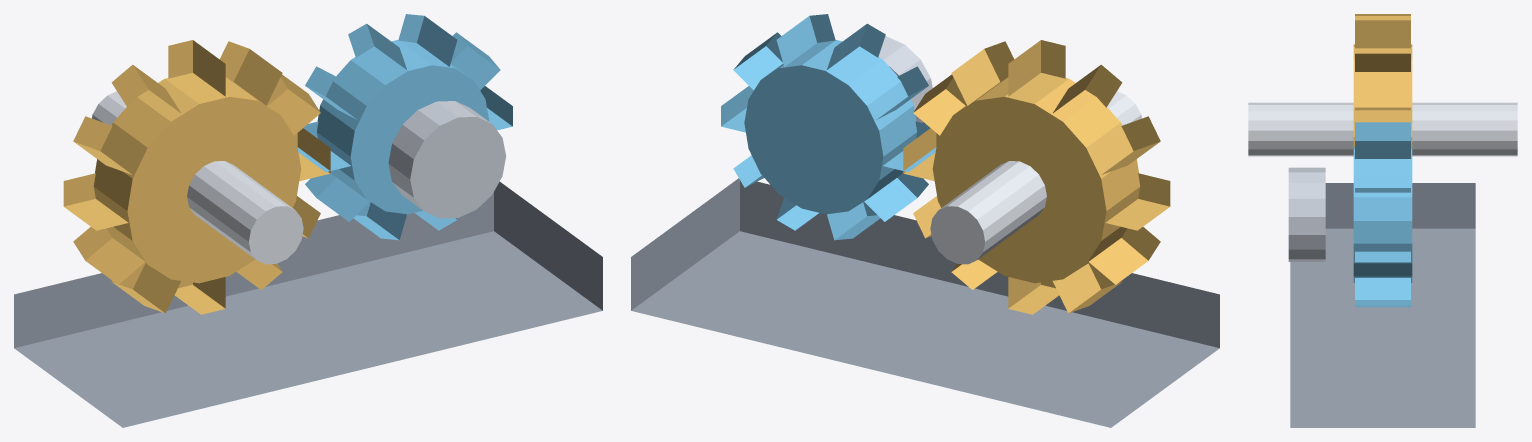
The model's file is mechanical_gearbox.glb.
3 views of the same model, side by side, from view 1: azimuth 30°, elevation 25°; view 2: azimuth 150°, elevation 25°; view 3: azimuth 270°, elevation 25° (orthographic). The views are drawn at different scales.
Parts seen in each view (by area): view 1: Housing_Base, Drive_Gear, Driven_Gear, Bearing_Ring, Input_Shaft; view 2: Housing_Base, Drive_Gear, Driven_Gear, Input_Shaft, Bearing_Ring; view 3: Housing_Base, Input_Shaft, Driven_Gear, Drive_Gear, Bearing_Ring.
Boxes of the visible parts, x1,y1,x2,y2 form: Housing_Base: (14,181,602,427); Drive_Gear: (63,40,330,314); Driven_Gear: (297,14,512,240); Bearing_Ring: (388,101,505,218); Input_Shaft: (92,91,303,264); Housing_Base: (631,178,1219,427); Drive_Gear: (903,40,1170,314); Driven_Gear: (721,14,936,240); Input_Shaft: (930,91,1141,264); Bearing_Ring: (878,36,932,123); Housing_Base: (1290,183,1475,427); Input_Shaft: (1248,102,1517,156); Driven_Gear: (1353,122,1412,307); Drive_Gear: (1353,14,1412,146); Bearing_Ring: (1288,167,1325,261).
Size of the model in its own units: 2.8 by 1.68 by 1.6.
